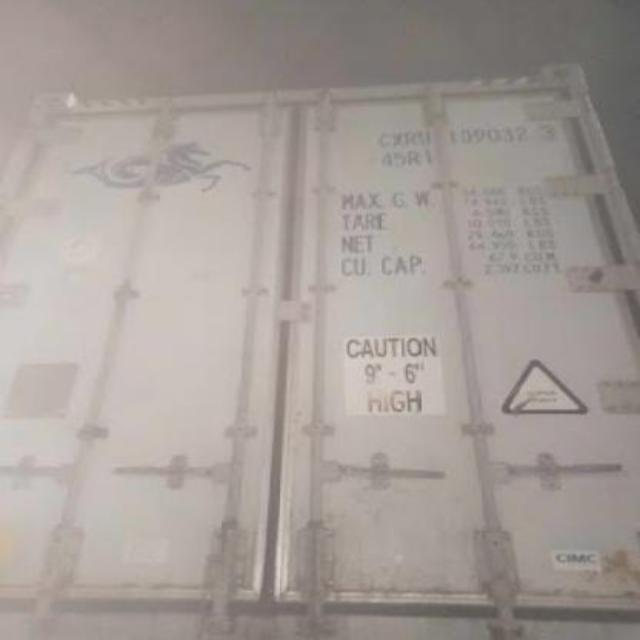0: (488, 126, 500, 144), (460, 128, 472, 142)
1: (448, 129, 458, 145)
2: (516, 122, 532, 142)
3: (542, 123, 558, 141), (502, 124, 516, 144)
9: (472, 128, 486, 142)
C: (376, 132, 392, 148)
R: (404, 132, 418, 144)
U: (418, 129, 432, 145)
X: (392, 132, 404, 146)
